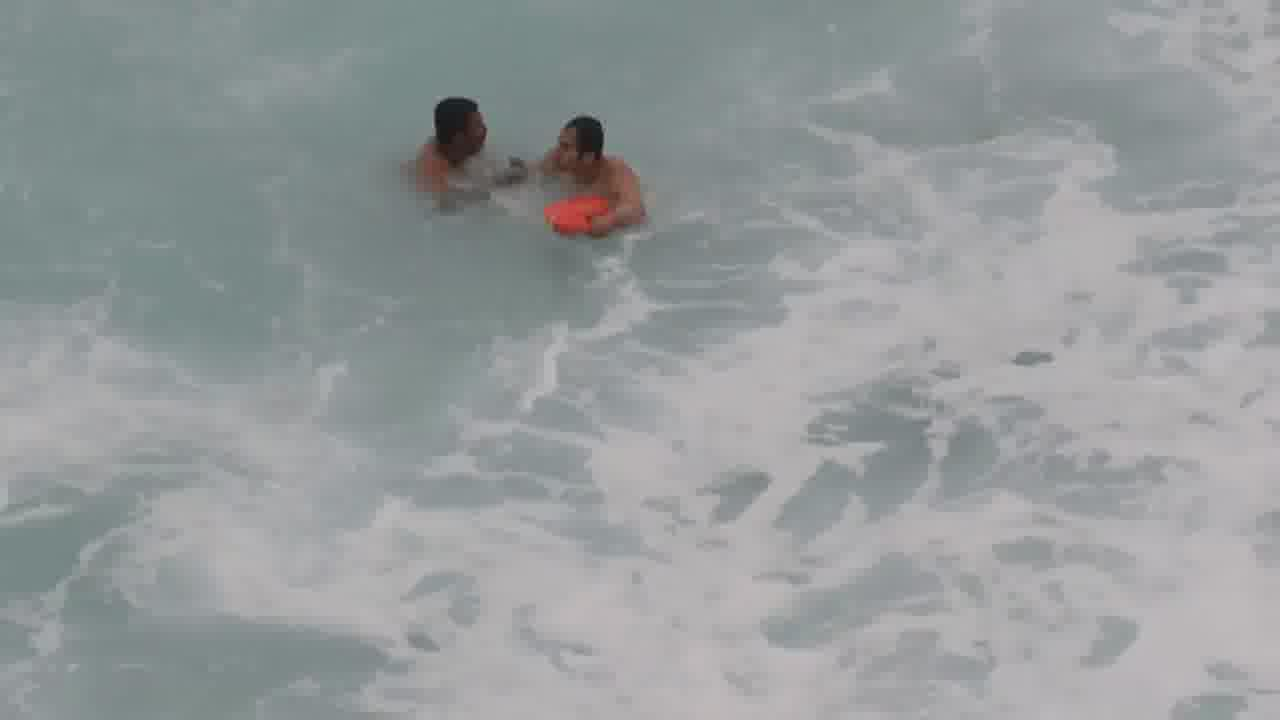swimmer: (377, 90, 531, 206), (531, 106, 657, 238)
